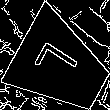L_SE: (34, 40, 88, 93)
